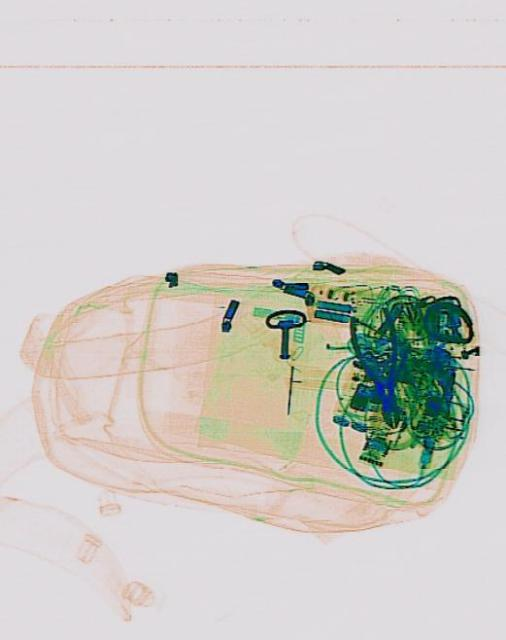Pliers: (342, 304, 415, 432)
